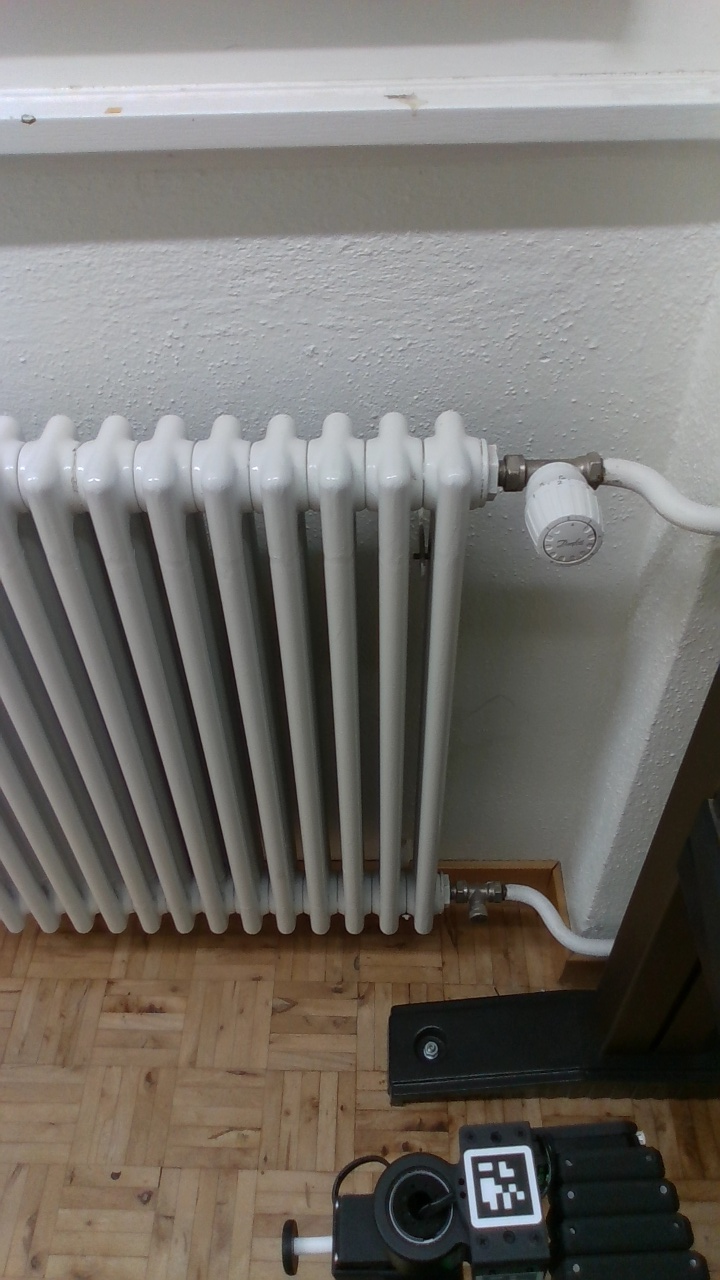Knob_Radiator: (506, 452, 623, 577)
Radiator: (1, 400, 521, 957)
